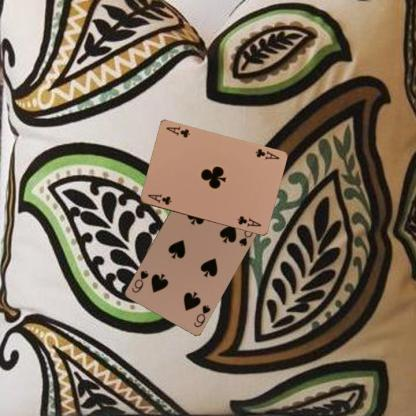6s: (192, 302, 212, 328)
Ac: (253, 146, 280, 161), (145, 192, 173, 206)
